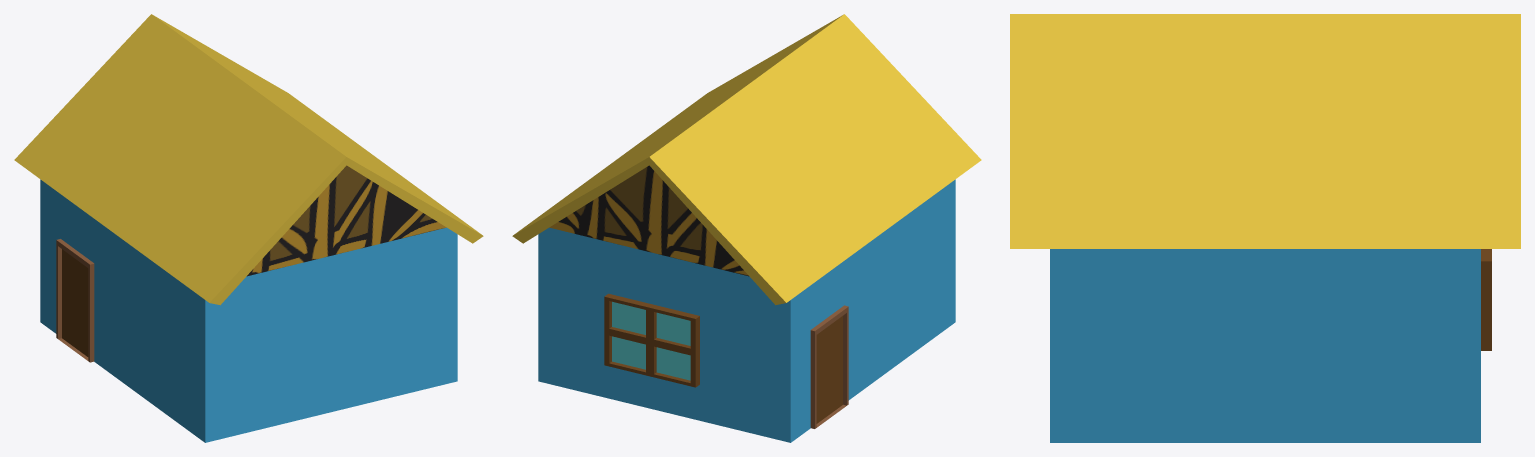
Rendered from CasaColor2.glb.
The picture shows the model from 3 angles, left to right: view 1: azimuth 30°, elevation 25°; view 2: azimuth 150°, elevation 25°; view 3: azimuth 270°, elevation 25°; orthographic projection. The views are drawn at different scales.
Visible parts, largest first — view 1: venta, techo; view 2: venta, techo; view 3: techo, venta.
Part boxes in pixels (box(x1,y1,x2,y2)): venta: box(40, 165, 457, 442); techo: box(14, 14, 483, 305); venta: box(538, 165, 955, 442); techo: box(512, 14, 981, 305); techo: box(1010, 14, 1520, 248); venta: box(1050, 249, 1491, 442).
Size of the model in its own units: 4.05 by 3.76 by 5.
Materials: 8 (2 with a texture image).
